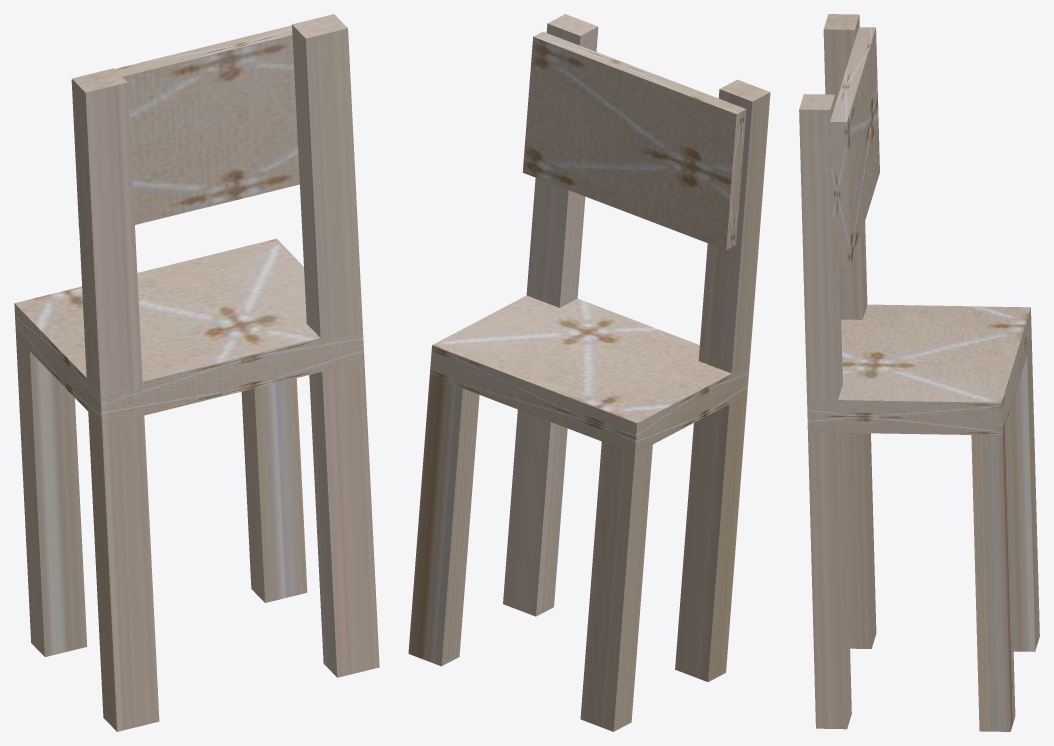
Rendered from chaise4.gltf.
3 renders of one model, left to right at view 1: azimuth 30°, elevation 25°; view 2: azimuth 150°, elevation 25°; view 3: azimuth 270°, elevation 25°, orthographic. The views are drawn at different scales.
Parts seen in each view (by area): view 1: chaise4; view 2: chaise4; view 3: chaise4.
Part boxes in pixels (x1,y1,x2,y2): chaise4: [14, 14, 379, 731]; chaise4: [408, 14, 770, 731]; chaise4: [799, 14, 1039, 731].
Size of the model in its own units: 1.52 by 3.17 by 1.12.
Materials: 1 (1 with a texture image).
